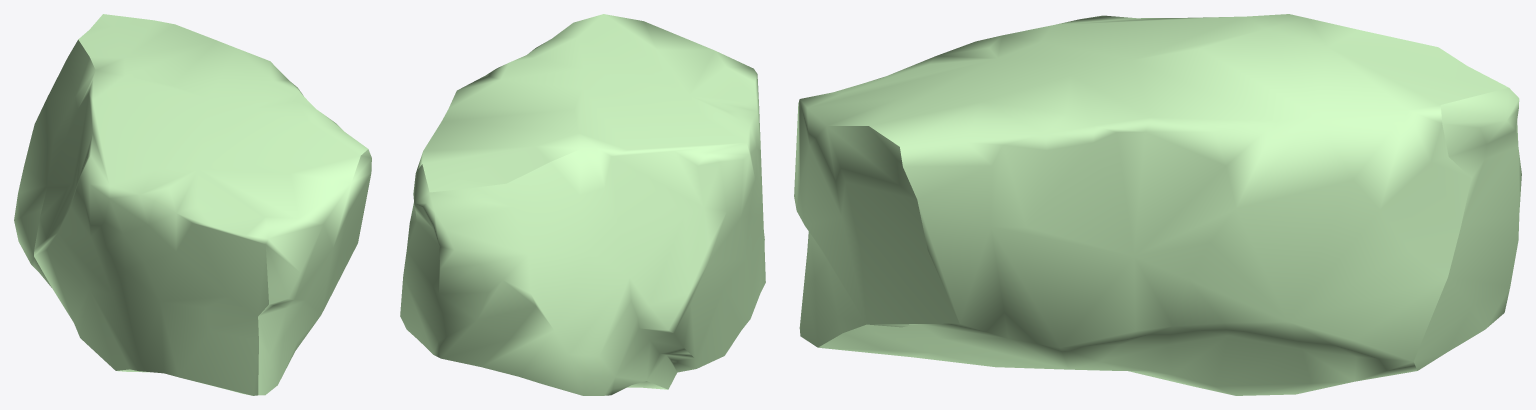
The picture shows the model from 3 angles, left to right: view 1: azimuth 30°, elevation 25°; view 2: azimuth 150°, elevation 25°; view 3: azimuth 270°, elevation 25°; orthographic projection. The views are drawn at different scales.
Visible parts, largest first — view 1: SM_FH_LimestoneSm_02_LOD0; view 2: SM_FH_LimestoneSm_02_LOD0; view 3: SM_FH_LimestoneSm_02_LOD0.
Part boxes in pixels (bbox=[...]): SM_FH_LimestoneSm_02_LOD0: bbox=[14, 14, 371, 395]; SM_FH_LimestoneSm_02_LOD0: bbox=[400, 14, 765, 395]; SM_FH_LimestoneSm_02_LOD0: bbox=[794, 14, 1521, 395].
Bounding box in the file's own units: 0.3765 × 0.3665 × 0.664.
